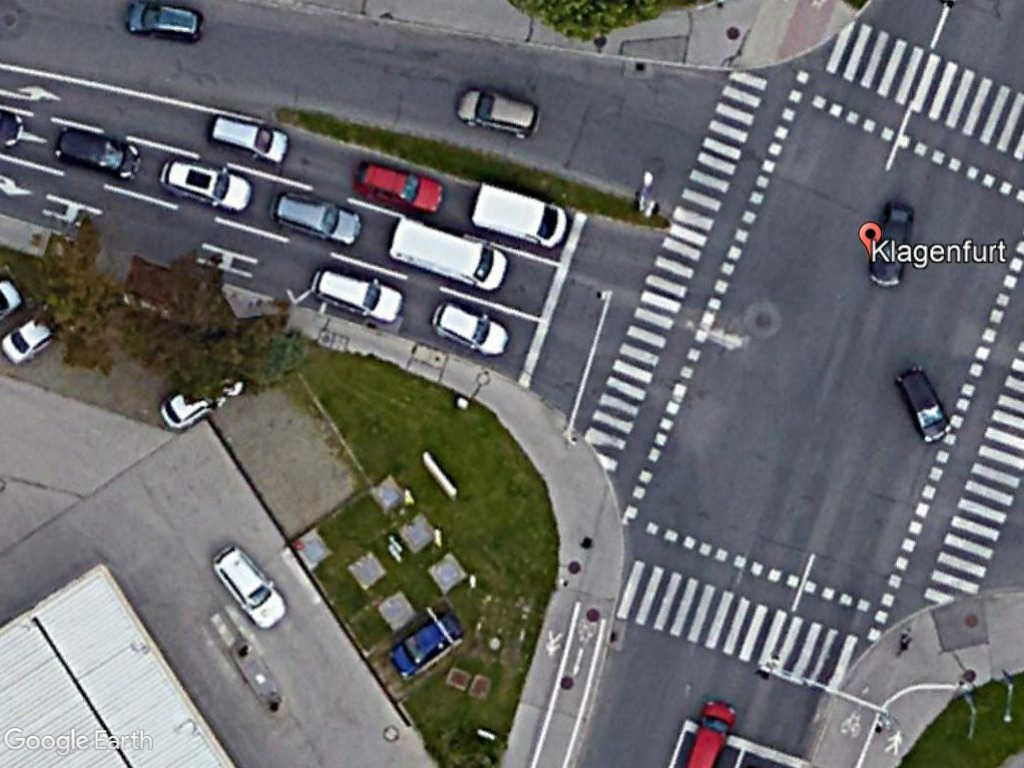car: (207, 540, 290, 632), (384, 608, 468, 679), (48, 123, 145, 184), (158, 152, 255, 213), (308, 264, 402, 325), (268, 188, 364, 246), (352, 158, 448, 216), (891, 361, 955, 445), (451, 85, 545, 141), (425, 299, 512, 359), (867, 198, 920, 289), (205, 111, 292, 166), (685, 696, 737, 768), (123, 0, 201, 47)
van: (387, 210, 507, 293), (466, 177, 572, 248)
